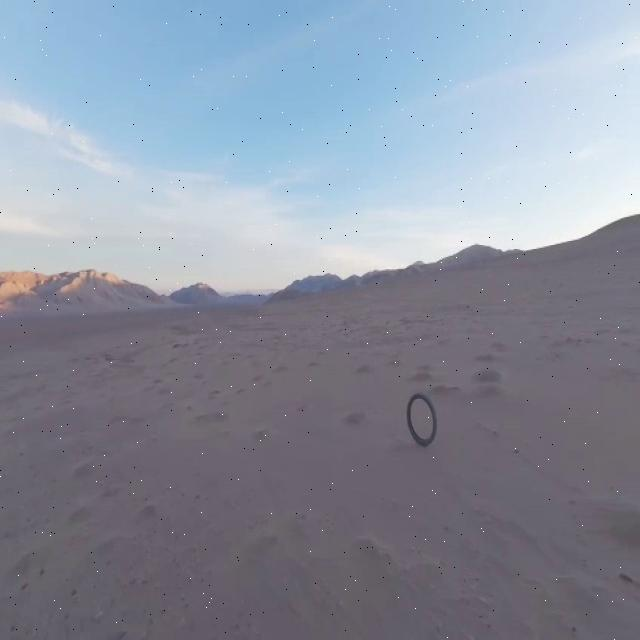Tire: (406, 392, 437, 446)
